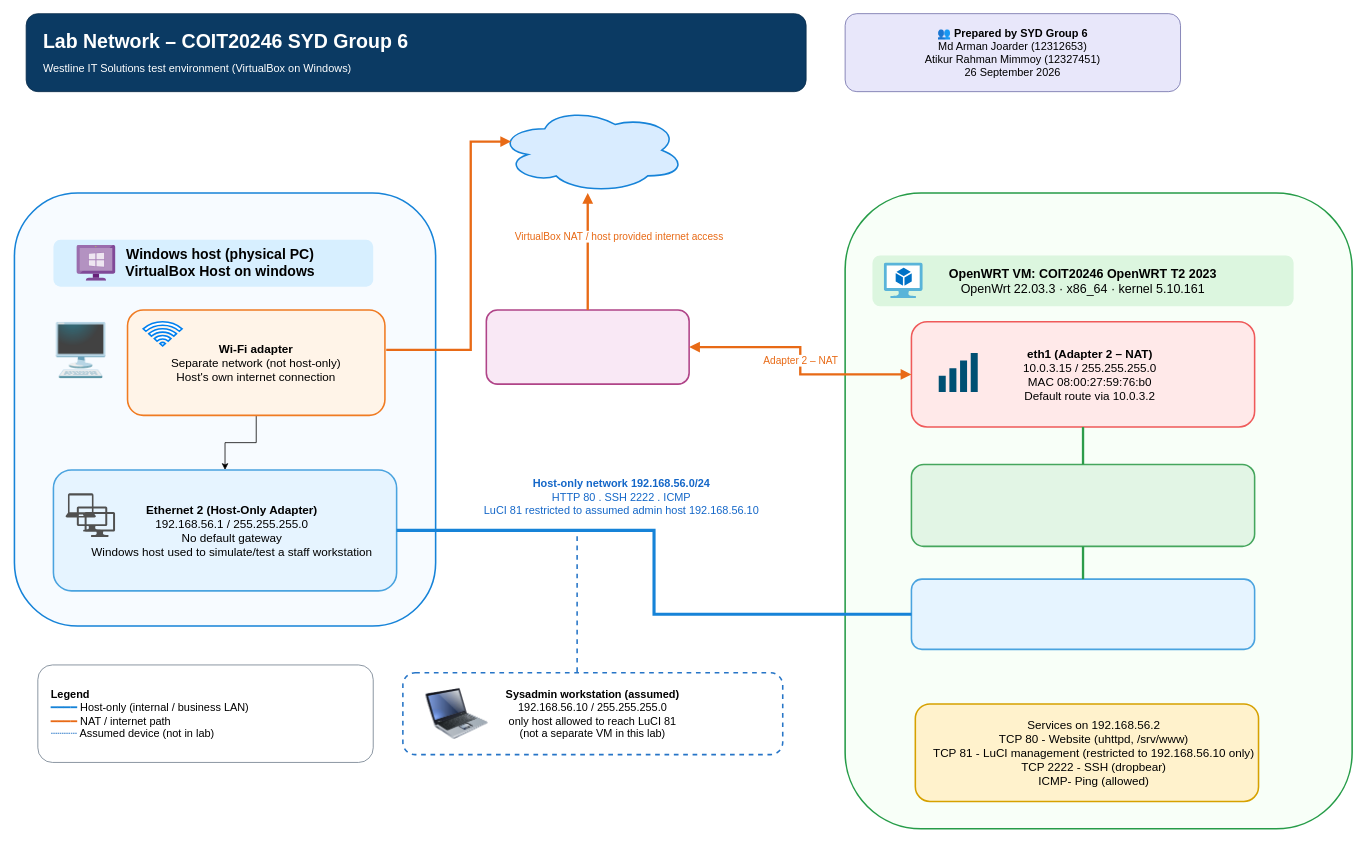
Image size: 1366x843. Some labels were removed from this diagram. Here are the shapes that lost their labels. From the top down, the centre of each, then its label:
(591,149): 🌐 Internet
(587,347): VirtualBox NAT gateway 10.0.3.2 / 255.255.255.0
(1082,505): br-mng (management bridge) 192.168.56.2 / 255.255.255.0 MAC 08:00:27:e4:b4:9d
(1082,614): eth0 (Adapter 1 – Host-only) Bridge member, no IP address
